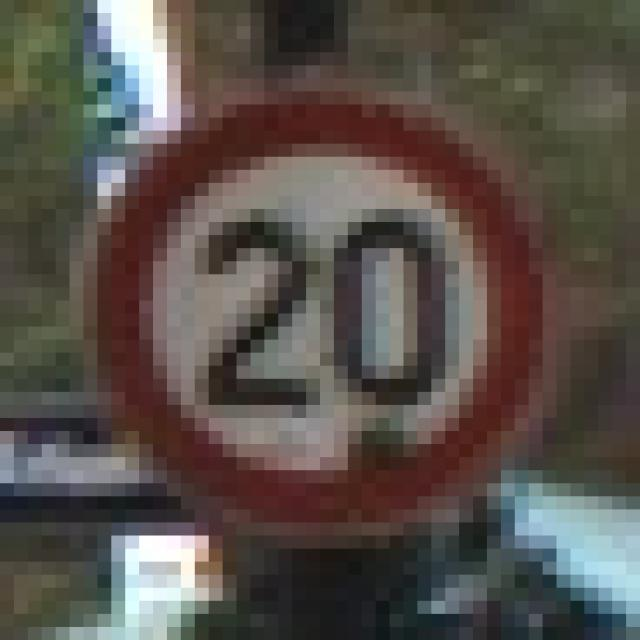Speed Limit -20-: (70, 78, 570, 575)
